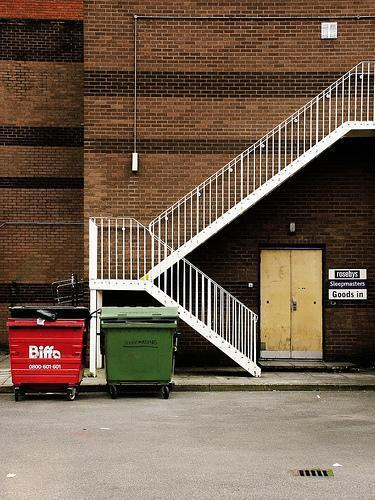Bote de Basura: (105, 306, 177, 393)
